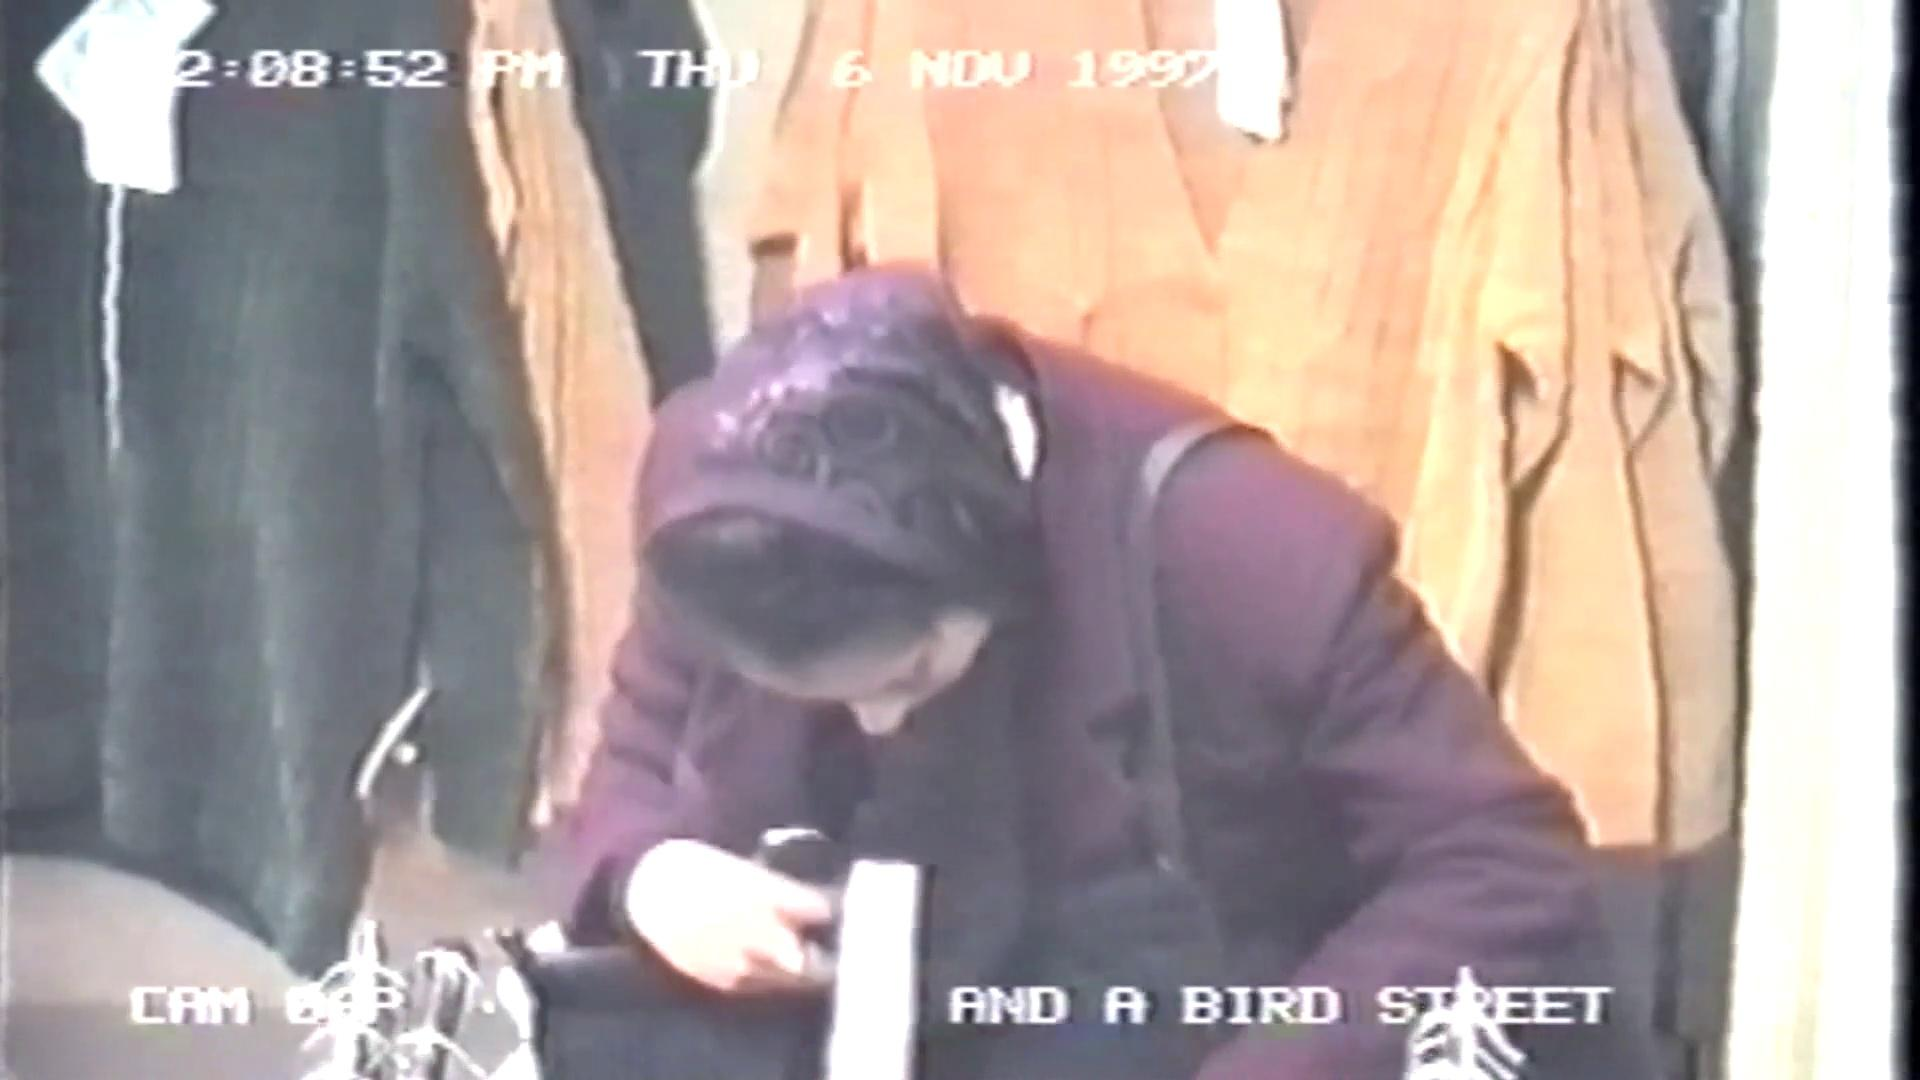Regular: (460, 0, 1552, 1080)
